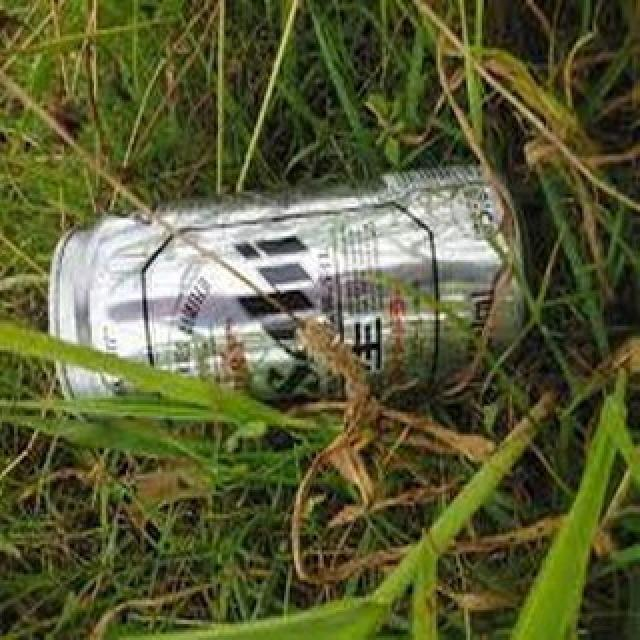recyclable: (51, 166, 528, 417)
